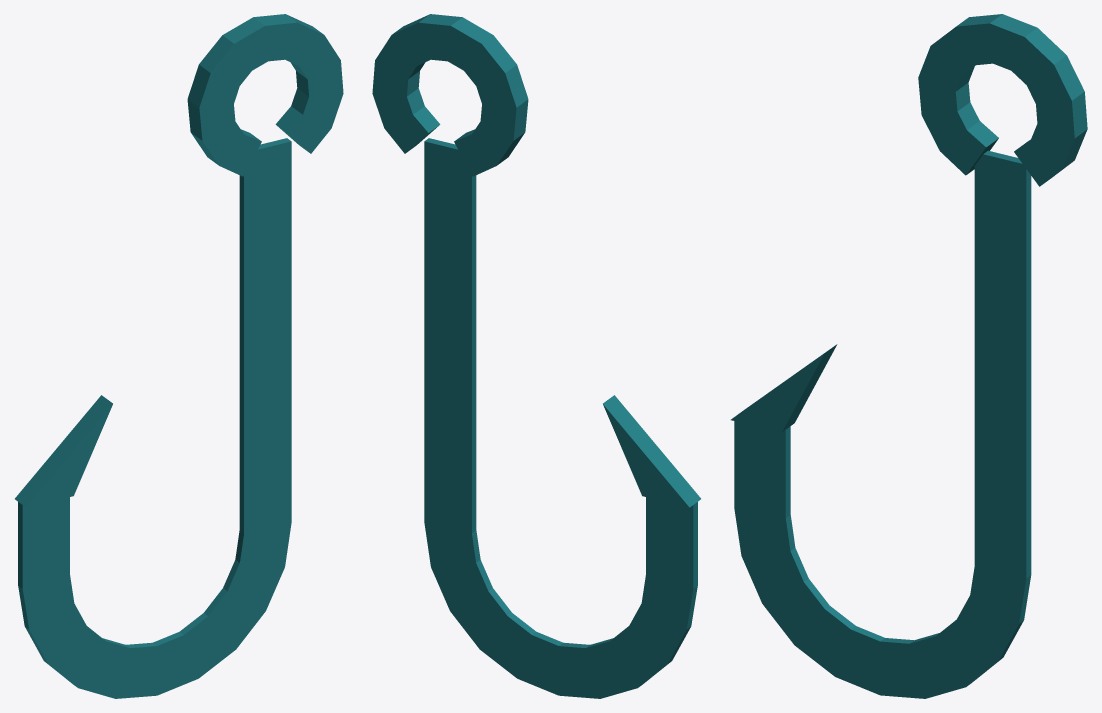
The model's file is icon_fishing.glb.
3 renders of one model, left to right at view 1: azimuth 30°, elevation 25°; view 2: azimuth 150°, elevation 25°; view 3: azimuth 330°, elevation 25°, orthographic. The views are drawn at different scales.
Visible parts, largest first — view 1: icon_fishing; view 2: icon_fishing; view 3: icon_fishing.
Boxes of the visible parts, x1,y1,x2,y2 form: icon_fishing: [15, 14, 343, 698]; icon_fishing: [372, 14, 700, 698]; icon_fishing: [731, 14, 1087, 698].
Bounding box in the file's own units: 0.2005 × 0.3908 × 0.013.
